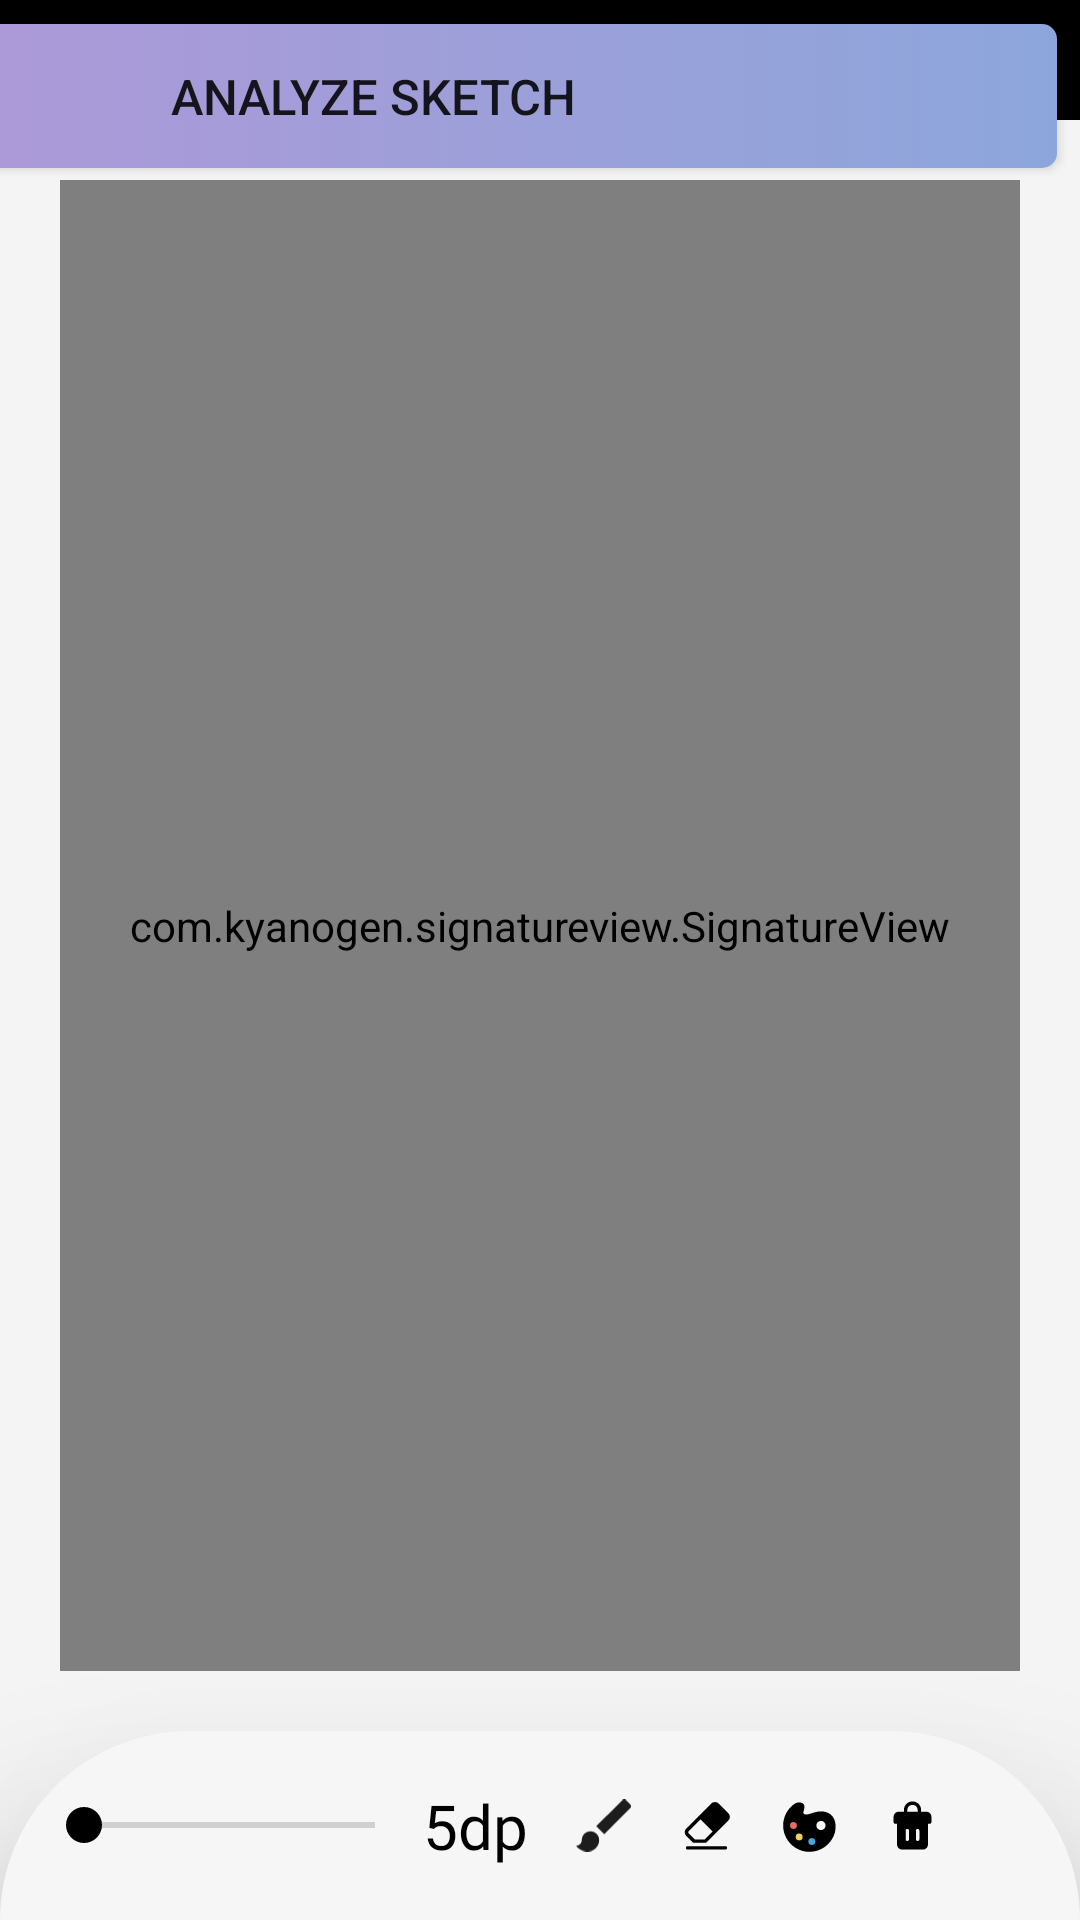

Icons on this 1080*1920 Android screen, each with its box as (x1=x1, y1=y1, x2=x2, y2=y2):
bin: (x1=893, y1=1801, x2=932, y2=1850)
brush: (x1=576, y1=1799, x2=631, y2=1852)
colorpallete: (x1=783, y1=1802, x2=836, y2=1852)
eraser: (x1=684, y1=1802, x2=730, y2=1850)
